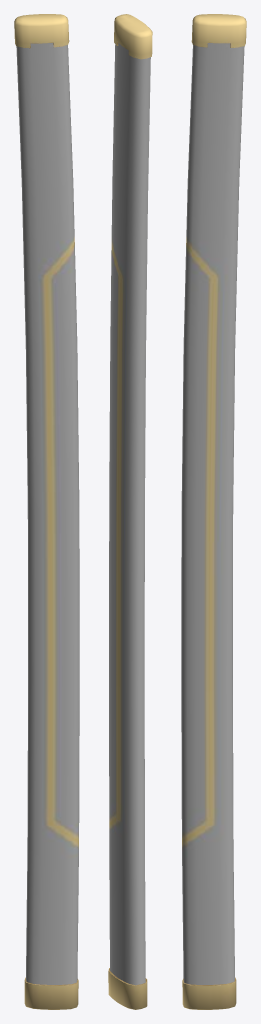
Rendered from sheath.glb.
The picture shows the model from 3 angles, left to right: view 1: azimuth 90°, elevation 25°; view 2: azimuth 210°, elevation 25°; view 3: azimuth 270°, elevation 25°; orthographic projection.
Parts seen in each view (by area): view 1: sheath; view 2: sheath; view 3: sheath.
Part boxes in pixels (x1,y1,x2,y2): sheath: (14, 14, 79, 1009); sheath: (108, 14, 152, 1009); sheath: (181, 14, 246, 1009).
Size of the model in its own units: 0.0392 by 1.56 by 0.0936.
Materials: 1 (1 with a texture image).
